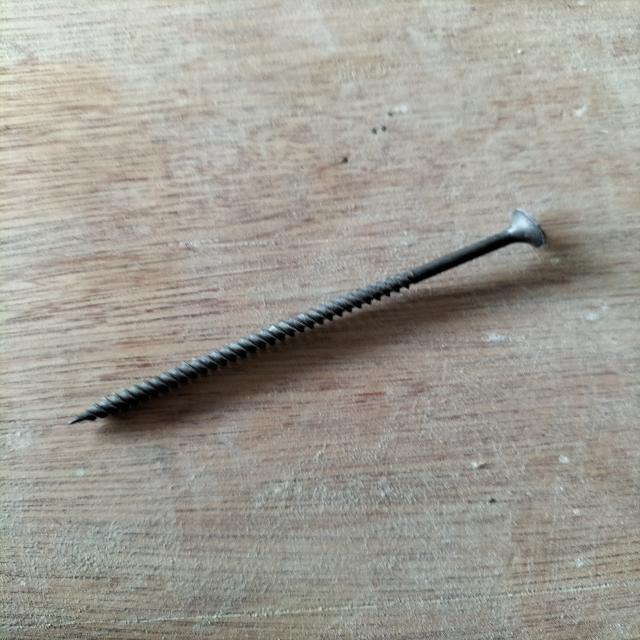screw: (67, 206, 545, 424), (68, 206, 547, 422)
